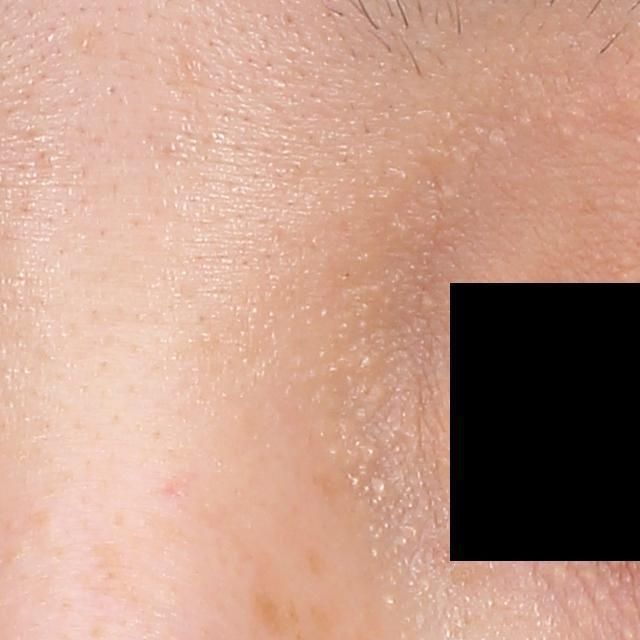melasma: (304, 547, 327, 578)
